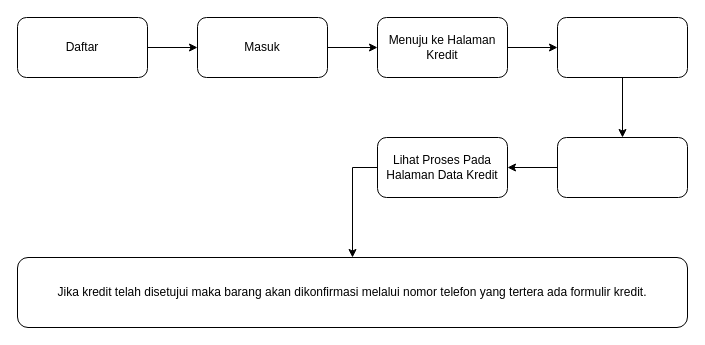
The diagram is 705 pixels wide and 345 high, and some of its shapes have lost their labels. The shapes that lost their labels are listed below. From the top down, each one's centre as x and y in pixels, then its label:
At [622,47]: "Isi Data dengan Benar".
At [622,167]: "Tekan Tombol Ajukan Kredit".
